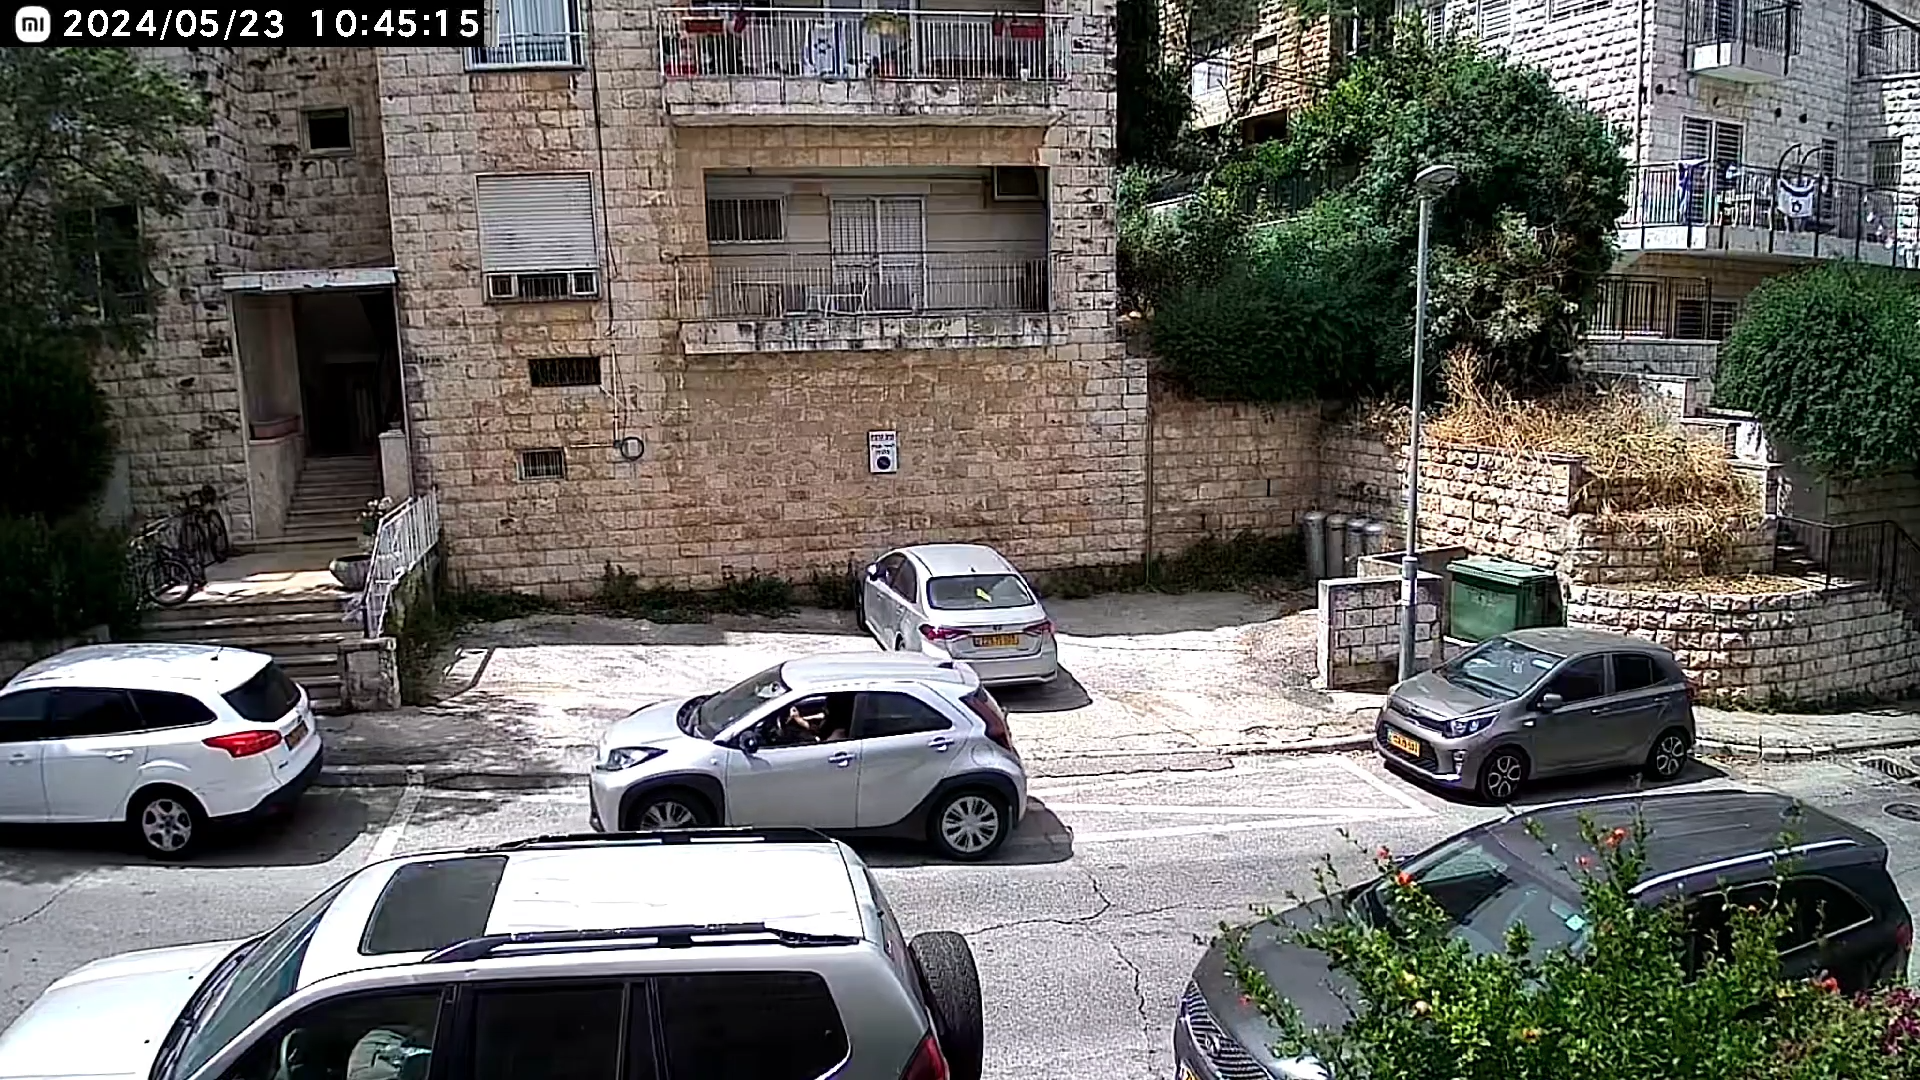moving car: (587, 655, 1030, 829)
